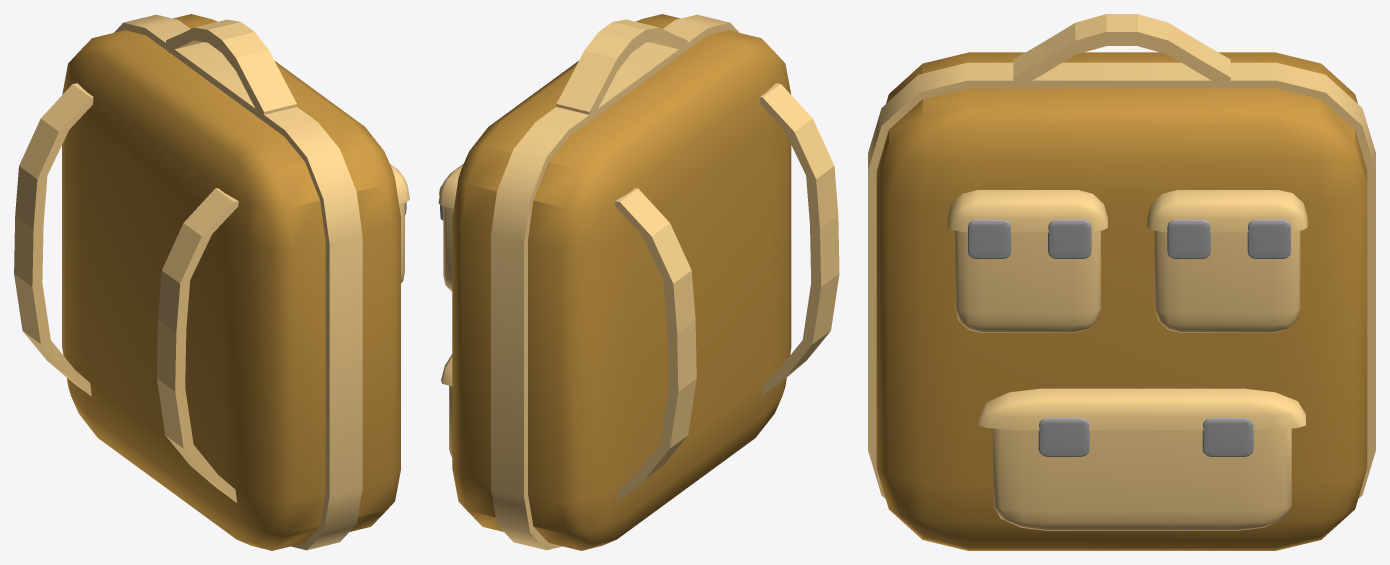
The model's file is low poly school bag.fbx.
3 renders of one model, left to right at view 1: azimuth 30°, elevation 25°; view 2: azimuth 150°, elevation 25°; view 3: azimuth 270°, elevation 25°, orthographic. The views are drawn at different scales.
Visible parts, largest first — view 1: bag, hanger, hanger 2nd, holder, mini bg 3; view 2: bag, hanger 2nd, hanger, holder, mini bag, mini bag 2; view 3: bag, mini bag 2, mini bag, mini bg 3, holder.
Part boxes in pixels (box(x1,y1,x2,y2)): bag: box(62, 14, 400, 550); hanger: box(157, 188, 238, 502); hanger 2nd: box(14, 83, 93, 396); holder: box(166, 19, 296, 114); mini bg 3: box(390, 164, 409, 282); bag: box(452, 14, 791, 550); hanger 2nd: box(615, 188, 696, 502); hanger: box(760, 83, 839, 396); holder: box(556, 19, 687, 114); mini bag: box(438, 164, 463, 291); mini bag 2: box(441, 354, 452, 457); bag: box(868, 52, 1375, 550); mini bag 2: box(978, 388, 1305, 530); mini bag: box(1147, 190, 1307, 332); mini bg 3: box(947, 190, 1107, 332); holder: box(1013, 14, 1230, 80).
Size of what is drawn, in the model's own units: 288 by 517 by 467.
